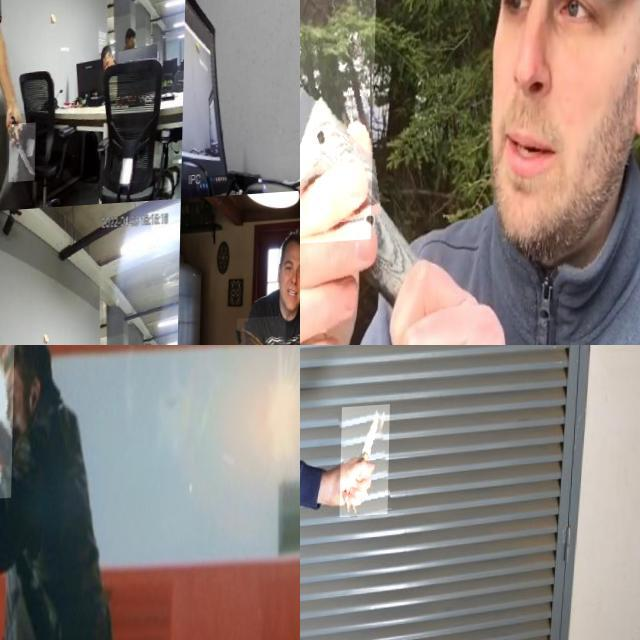-: (300, 0, 424, 256), (342, 408, 392, 522), (10, 126, 37, 184), (238, 321, 288, 345)
gun-knife-thesis - v11 Yolov5 augmented: (0, 345, 83, 509)
